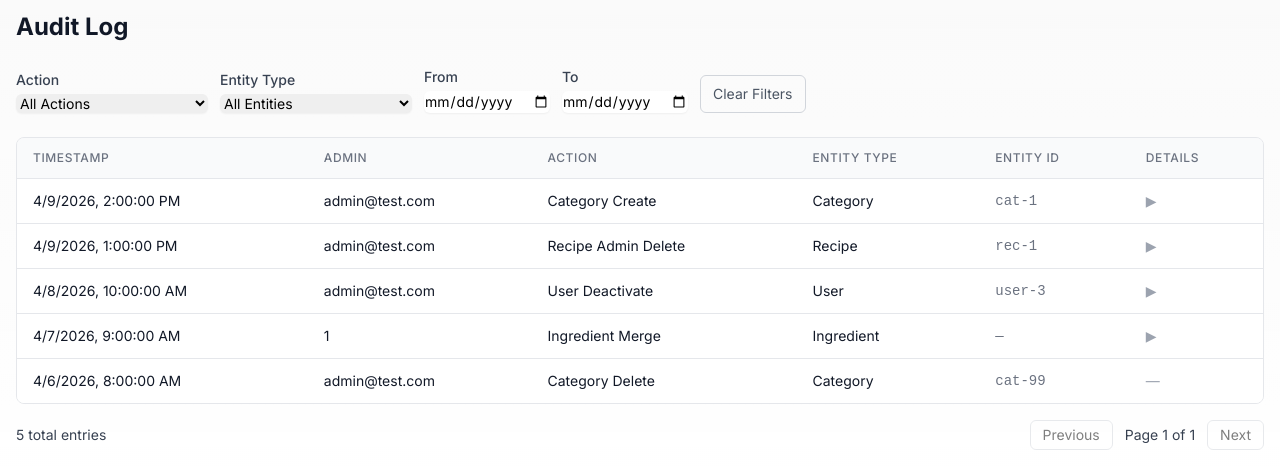
Test: AuditLogPage › clears all filters and resets page
Expected: the text "5 total entries" is shown, x1=16 y1=425 x2=106 y2=445
# Set action filter
Step 1. Select "Category Create" in the dropdown labelled "Action" → (112, 104), box x1=16 y1=94 x2=208 y2=113
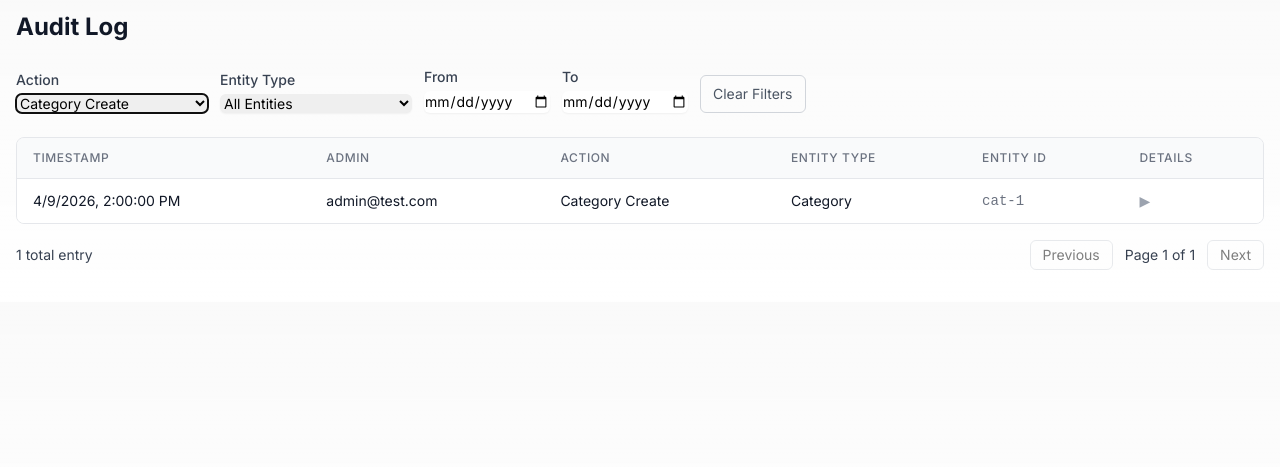
Expected: the text "1 total entry" is shown, x1=16 y1=245 x2=93 y2=265
# Click clear
Step 2. Click the button "Clear Filters" → (753, 94), box x1=700 y1=75 x2=806 y2=113
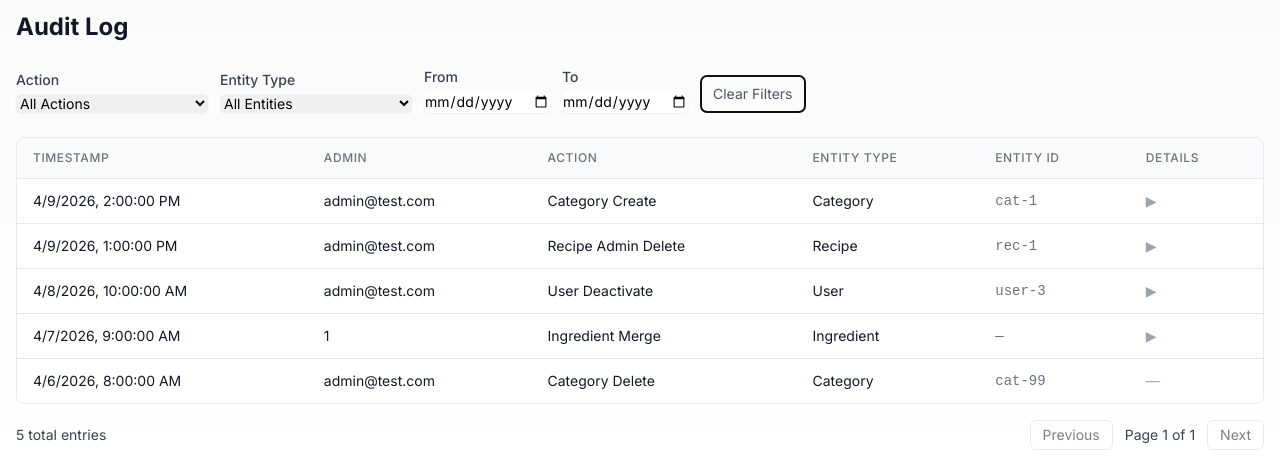
Expected: the text "5 total entries" is shown, x1=16 y1=425 x2=106 y2=445
